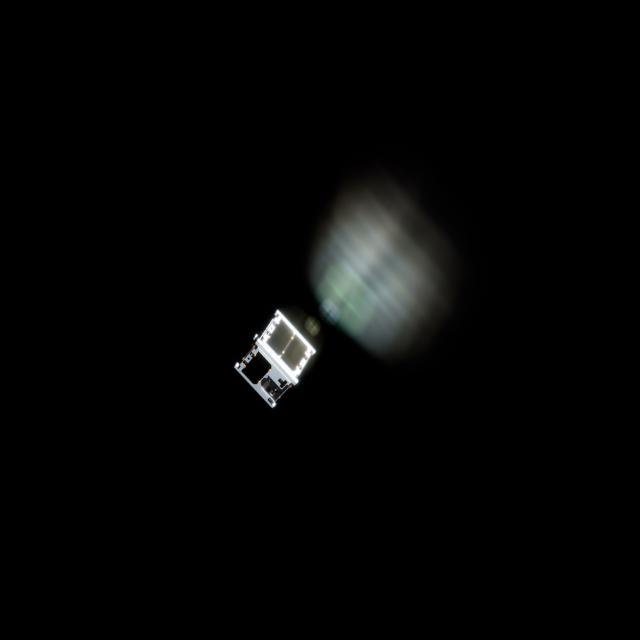satellite: (231, 303, 318, 411)
